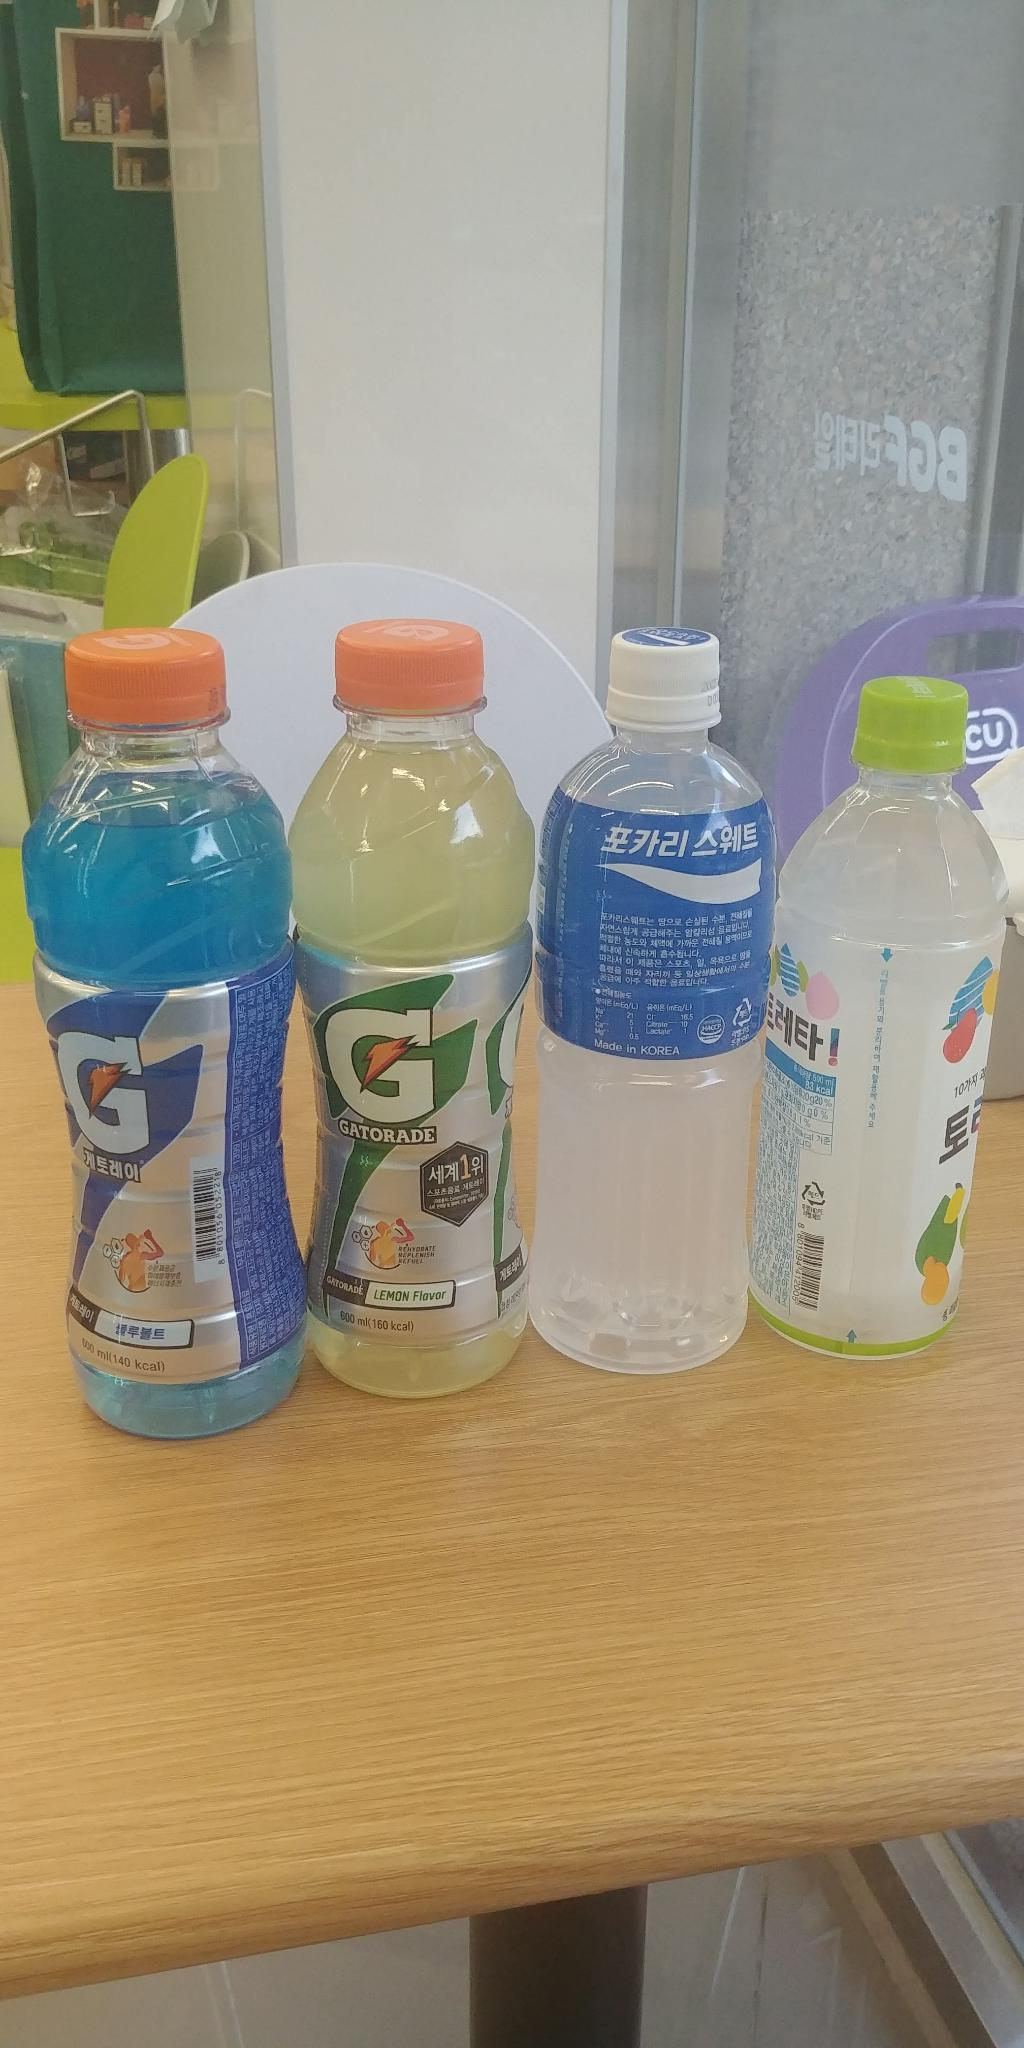gatorade_lemon: (283, 598, 550, 1398)
pocarisweat: (516, 622, 782, 1390)
toreta: (756, 662, 1006, 1375)
